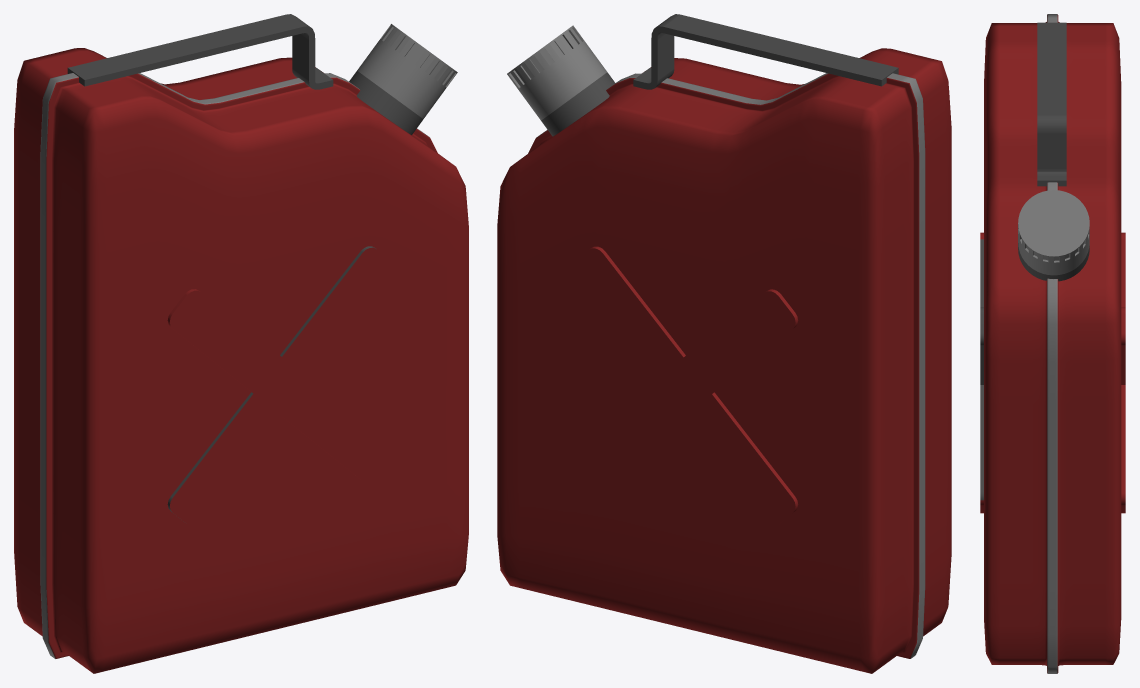
The model's file is bison_2.fbx.
3 renders of one model, left to right at view 1: azimuth 30°, elevation 25°; view 2: azimuth 150°, elevation 25°; view 3: azimuth 270°, elevation 25°, orthographic. The views are drawn at different scales.
Visible parts, largest first — view 1: pCube11_curve4; view 2: pCube11_curve4; view 3: pCube11_curve4.
Boxes of the visible parts, <box> form: pCube11_curve4: <box>14,14,468,673</box>; pCube11_curve4: <box>497,14,951,673</box>; pCube11_curve4: <box>980,14,1125,673</box>.
Size of the model in its own units: 0.2802 by 0.3789 by 0.0994.
